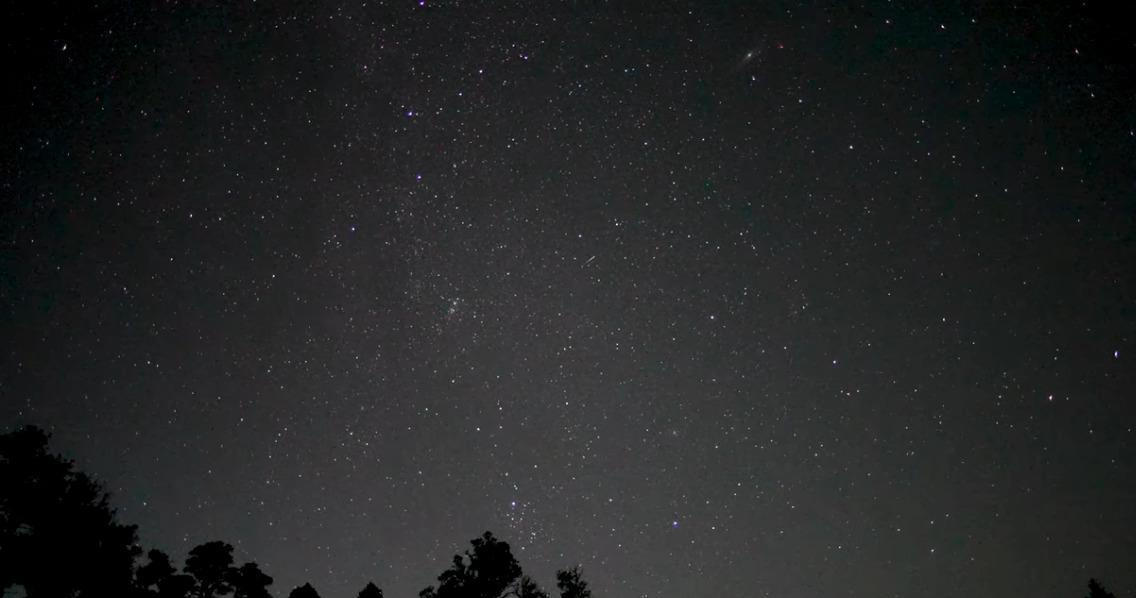meteorite: (577, 249, 607, 267)
